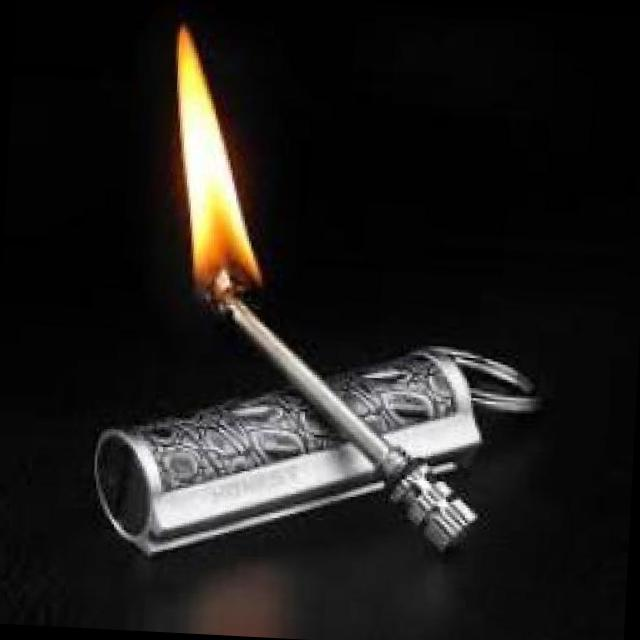Fire: (164, 27, 272, 302)
